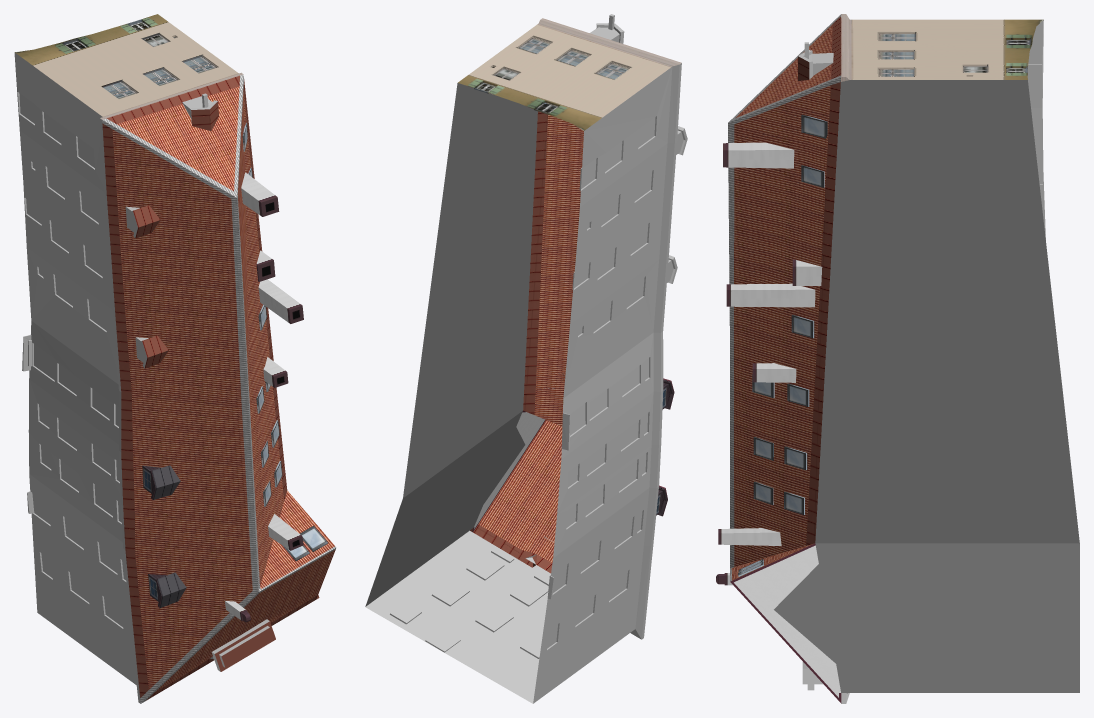
File: Lossi_plats_3.obj
3 renders of one model, left to right at view 1: azimuth 30°, elevation 25°; view 2: azimuth 150°, elevation 25°; view 3: azimuth 270°, elevation 25°, orthographic. The views are drawn at different scales.
Parts seen in each view (by area): view 1: Lossi_plats_3; view 2: Lossi_plats_3; view 3: Lossi_plats_3.
Part boxes in pixels (x1,y1,x2,y2): Lossi_plats_3: (14, 14, 336, 703); Lossi_plats_3: (365, 14, 687, 703); Lossi_plats_3: (716, 14, 1079, 703).
Size of the model in its own units: 15.27 by 40.91 by 20.44.
